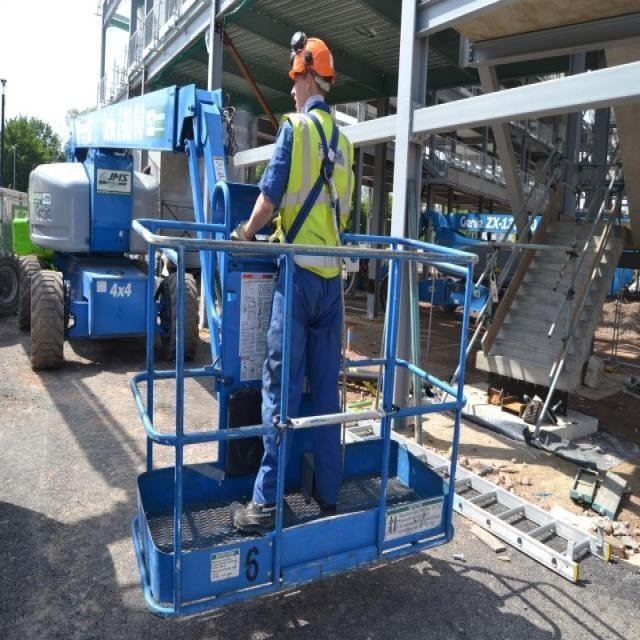Arnes_seguridad: (289, 107, 344, 278)
